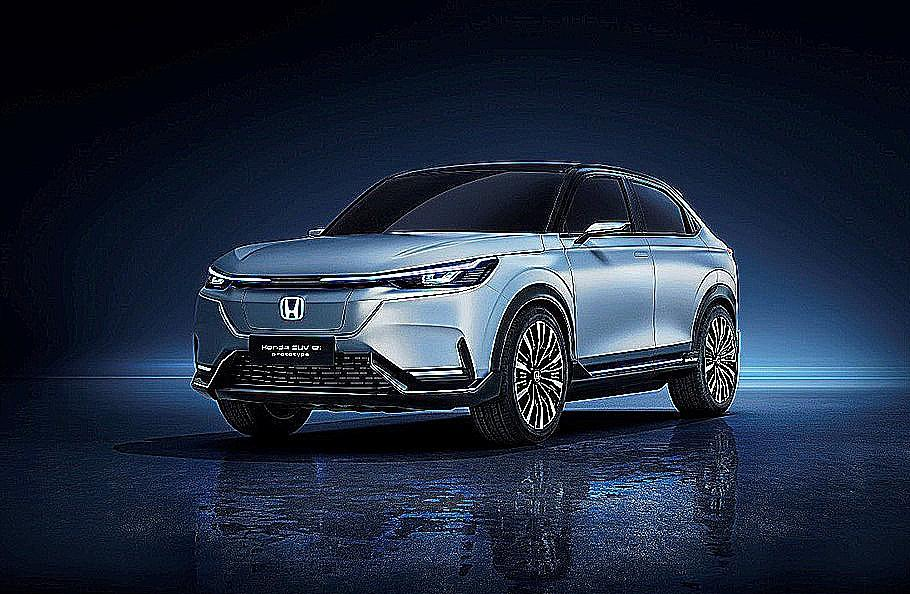Car hood: (213, 229, 546, 280)
Fender - -F-L-: (483, 229, 578, 368)
Fender - -R-L-: (699, 229, 740, 305)
Front bumper: (186, 287, 526, 415)
Headlight - -L-: (383, 253, 502, 297)
Headlight - -R-: (197, 261, 235, 296)
Passenger-s door - -F-L-: (572, 168, 656, 368)
Passenger-s door - -R-L-: (638, 167, 722, 368)
Rear light - -L-: (724, 239, 741, 263)
Side bumper - -L-: (564, 338, 705, 405)
Side mirror - -L-: (571, 214, 634, 251)
Side mirror - -R-: (300, 221, 332, 242)
